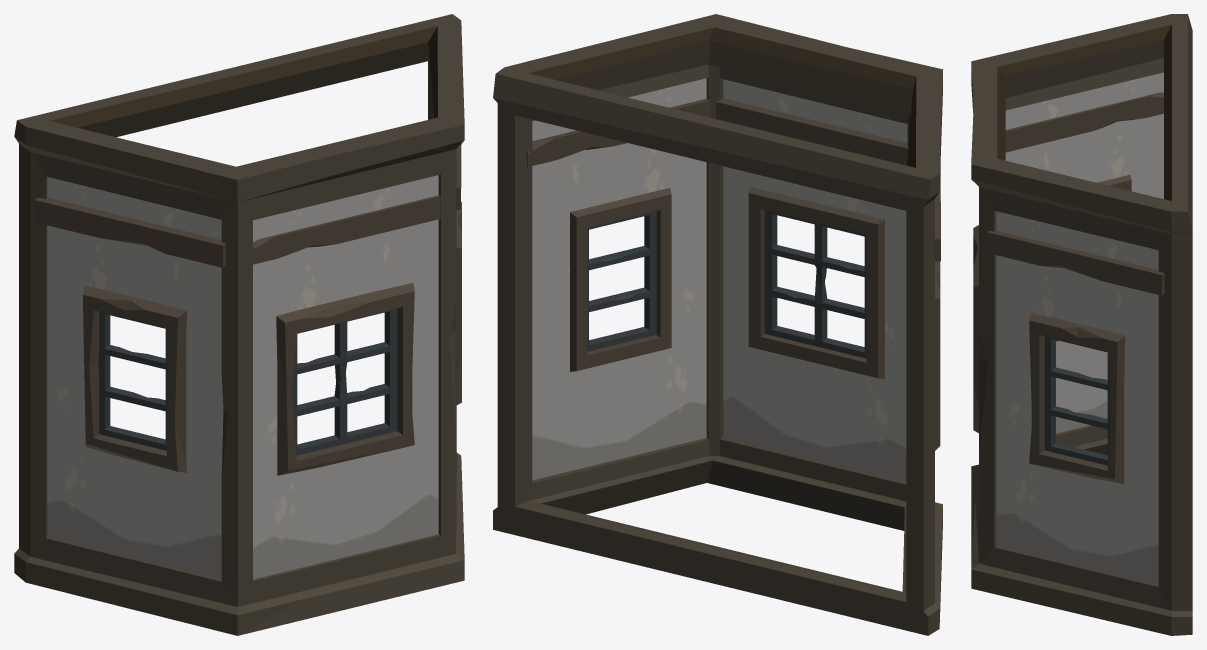
The model's file is kingdom_SM_Bld_House_Tower_Angle_Window_05.gltf.
3 renders of one model, left to right at view 1: azimuth 30°, elevation 25°; view 2: azimuth 150°, elevation 25°; view 3: azimuth 270°, elevation 25°, orthographic. The views are drawn at different scales.
Parts seen in each view (by area): view 1: SM_Bld_House_Tower_Angle_Window_05; view 2: SM_Bld_House_Tower_Angle_Window_05; view 3: SM_Bld_House_Tower_Angle_Window_05.
Boxes of the visible parts, box(x1,y1,x2,y2) form: SM_Bld_House_Tower_Angle_Window_05: box(14, 14, 464, 635); SM_Bld_House_Tower_Angle_Window_05: box(493, 14, 942, 635); SM_Bld_House_Tower_Angle_Window_05: box(971, 14, 1192, 635).
Size of the model in its own units: 2.5 by 2.5 by 1.18.
Materials: 1 (1 with a texture image).
